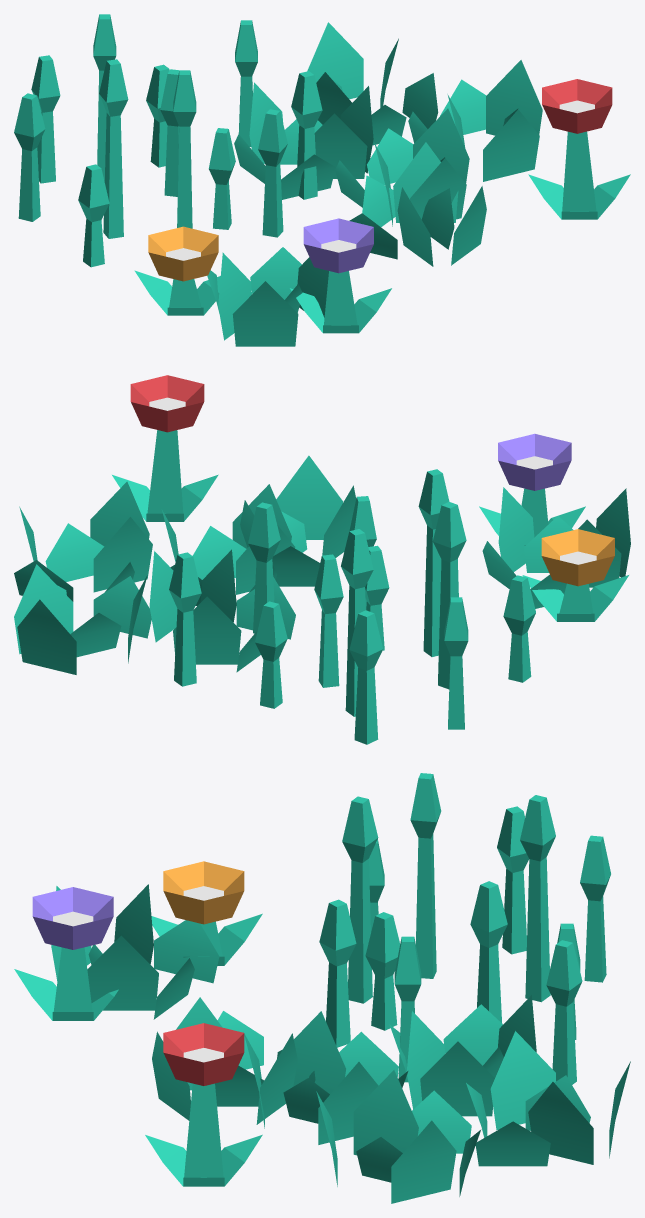
The model's file is Plants 1.fbx.
The picture shows the model from 3 angles, top to bottom: view 1: azimuth 30°, elevation 25°; view 2: azimuth 150°, elevation 25°; view 3: azimuth 270°, elevation 25°; orthographic projection. The views are drawn at different scales.
Parts seen in each view (by area): view 1: crops_wheatStageA, grass_leafsLarge, grass_leafs (×2), flower_redC, flower_purpleC, flower_yellowC; view 2: crops_wheatStageA, grass_leafsLarge, grass_leafs (×2), flower_redC, flower_yellowC, flower_purpleC; view 3: grass_leafsLarge, crops_wheatStageA, grass_leafs (×2), flower_redC, flower_purpleC, flower_yellowC.
Part boxes in pixels (bbox=[...]): crops_wheatStageA: bbox=[14, 14, 322, 267]; grass_leafsLarge: bbox=[234, 22, 542, 226]; grass_leafs (×2): bbox=[207, 142, 486, 346]; flower_redC: bbox=[528, 79, 630, 219]; flower_purpleC: bbox=[290, 218, 391, 333]; flower_yellowC: bbox=[134, 226, 220, 315]; crops_wheatStageA: bbox=[169, 469, 535, 744]; grass_leafsLarge: bbox=[14, 481, 295, 674]; grass_leafs (×2): bbox=[240, 455, 630, 608]; flower_redC: bbox=[112, 375, 218, 521]; flower_yellowC: bbox=[522, 529, 628, 621]; flower_purpleC: bbox=[479, 433, 585, 545]; grass_leafsLarge: bbox=[244, 995, 630, 1203]; crops_wheatStageA: bbox=[319, 773, 610, 1084]; grass_leafs (×2): bbox=[51, 884, 315, 1124]; flower_redC: bbox=[145, 1023, 262, 1186]; flower_purpleC: bbox=[14, 887, 118, 1020]; flower_yellowC: bbox=[151, 861, 262, 965].
Bounding box in the file's own units: 9.81 × 3.35 × 9.44.
